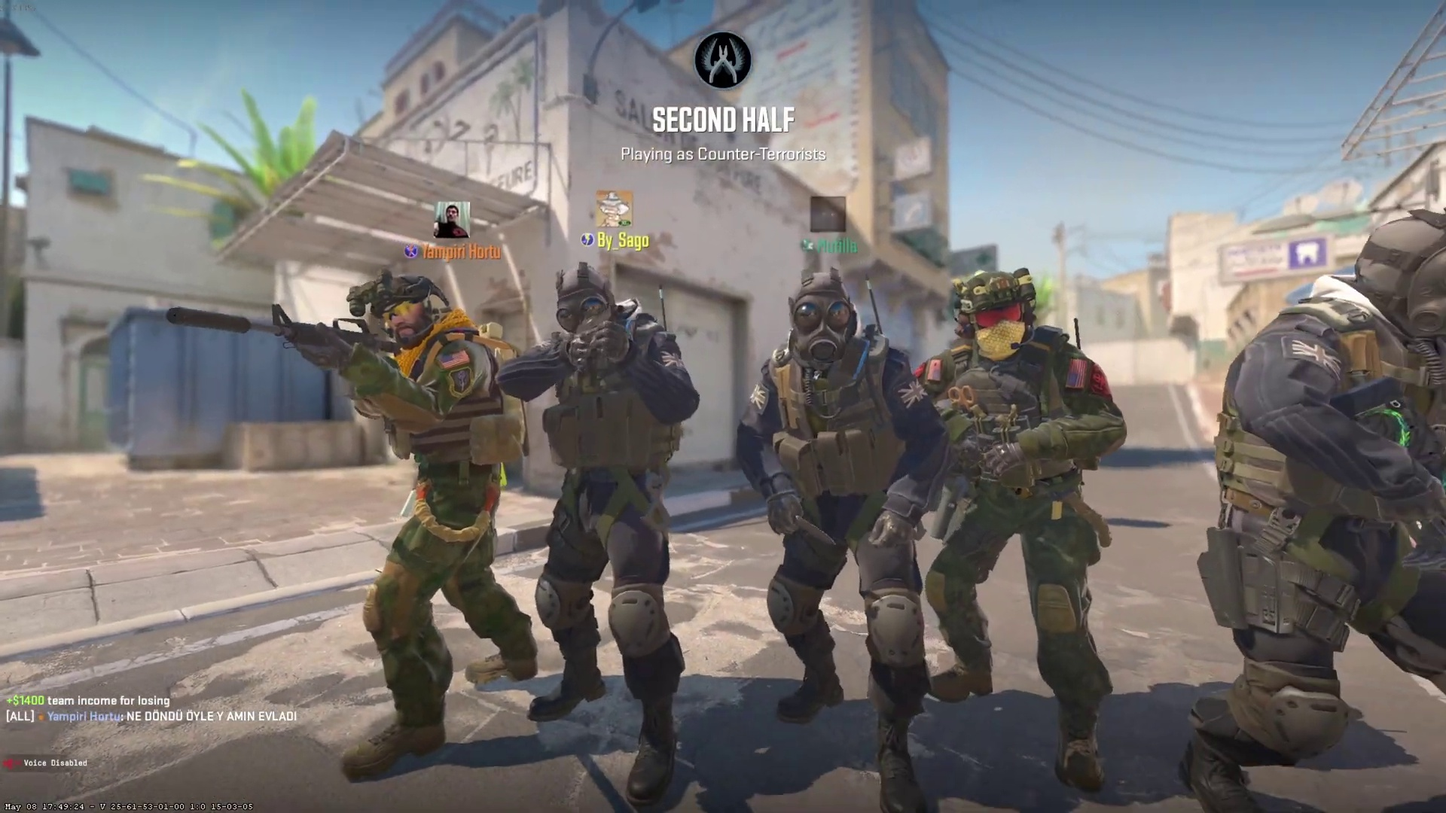CT: (1193, 212, 1446, 808), (924, 270, 1111, 792), (328, 272, 507, 775), (760, 272, 923, 808), (534, 264, 680, 802)
